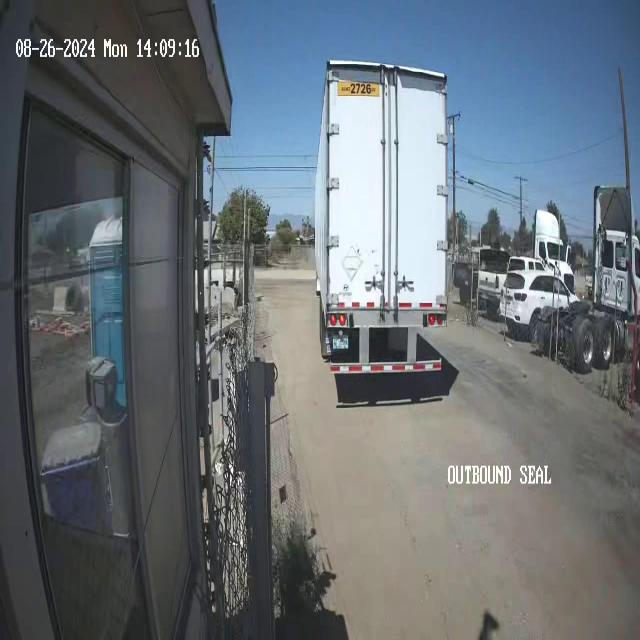TRUCK_CONTAINER: (312, 58, 448, 372)
